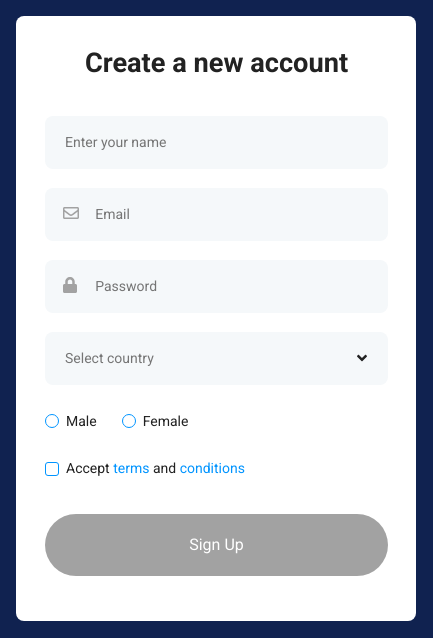
Test: SubmittingFormData › Valid form data should available to sending to server
The width and height of the screenshot is (433, 638).
Type "Julian" into the field with placeholder "Enter your name" at (216, 142), box [63, 133, 370, 152]
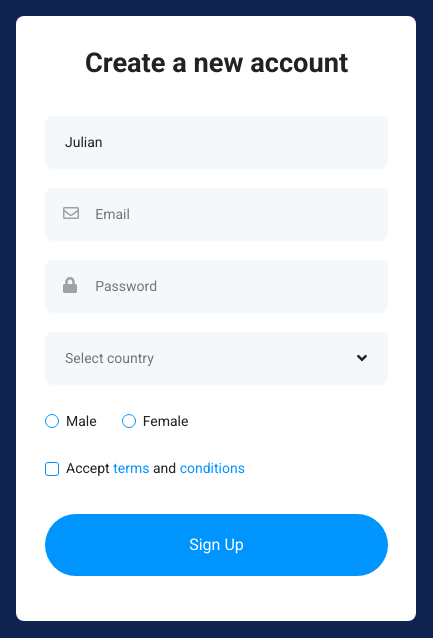
Type "julia777@gmail.com" into the field with placeholder "Email" at (232, 214), box [93, 205, 370, 224]
Type "123456" into the password field with placeholder "Password" at (232, 286), box [93, 277, 370, 296]
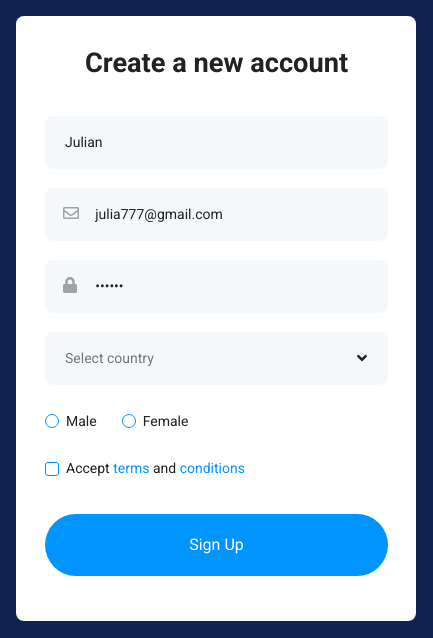
Click the field with placeholder "Select country" at (216, 358), box [63, 349, 370, 368]
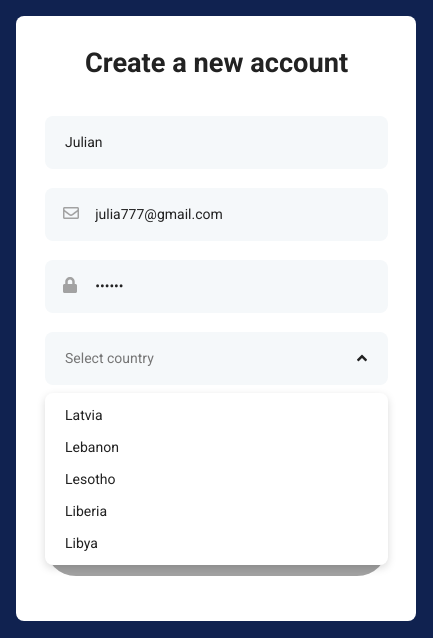
Click the text "Lebanon" at (92, 447), box [65, 439, 119, 455]
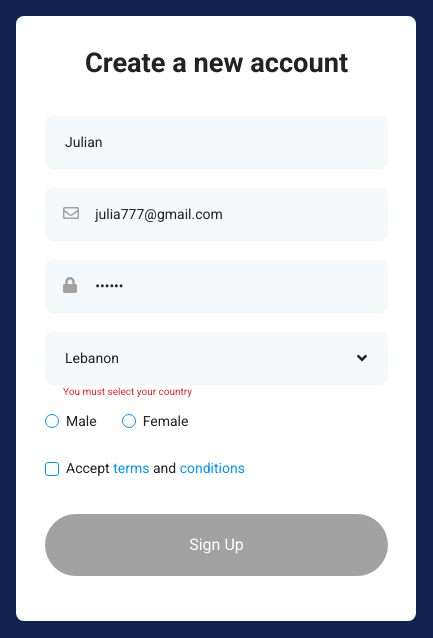
Click the radio button labelled "Male" at (77, 421), box [58, 413, 97, 429]
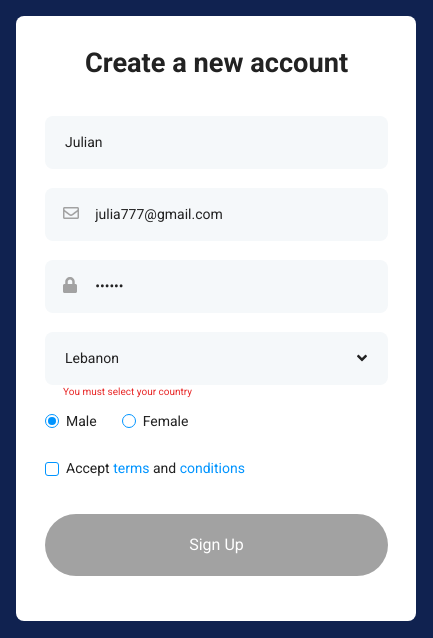
Click the checkbox labelled "Accept terms and conditions" at (151, 468), box [58, 460, 245, 477]
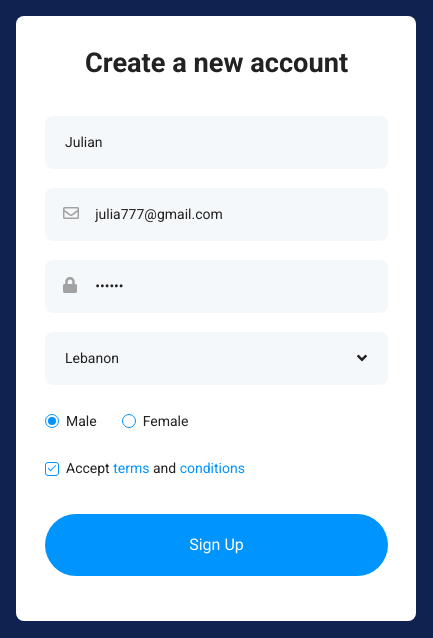
Now the button is enabled, box [45, 514, 388, 576]
